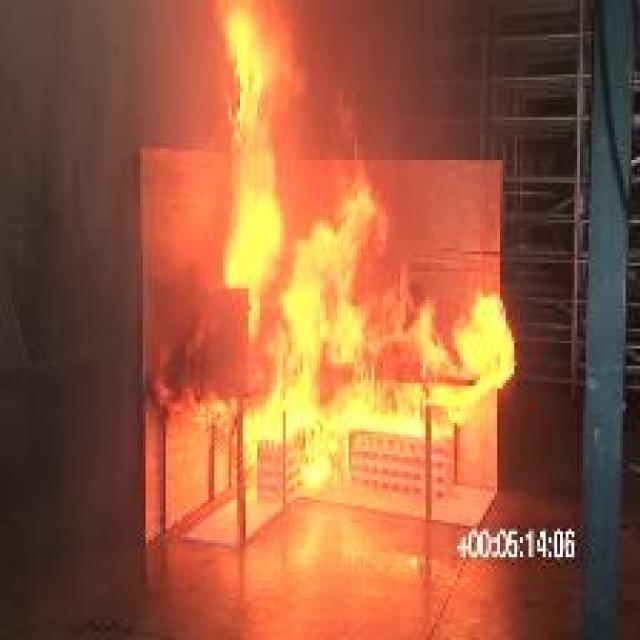Fire: (154, 0, 517, 486)
